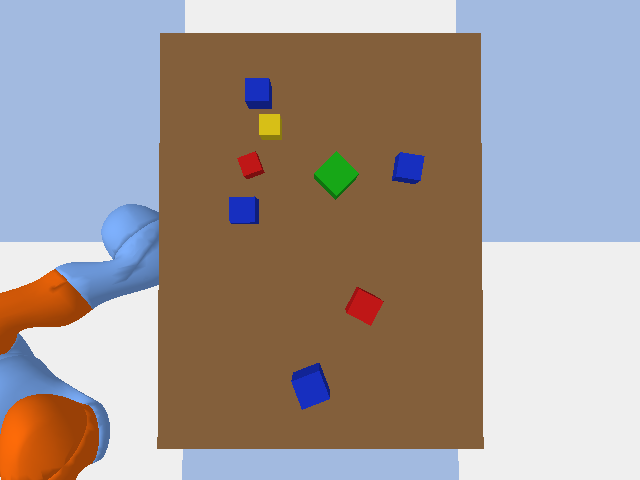blue_obj: (291, 363, 329, 409), (392, 152, 424, 183), (229, 196, 258, 223), (245, 78, 271, 108)
green_obj: (314, 151, 358, 199)
red_obj: (345, 287, 383, 325), (237, 151, 264, 178)
yellow_obj: (259, 114, 281, 139)
